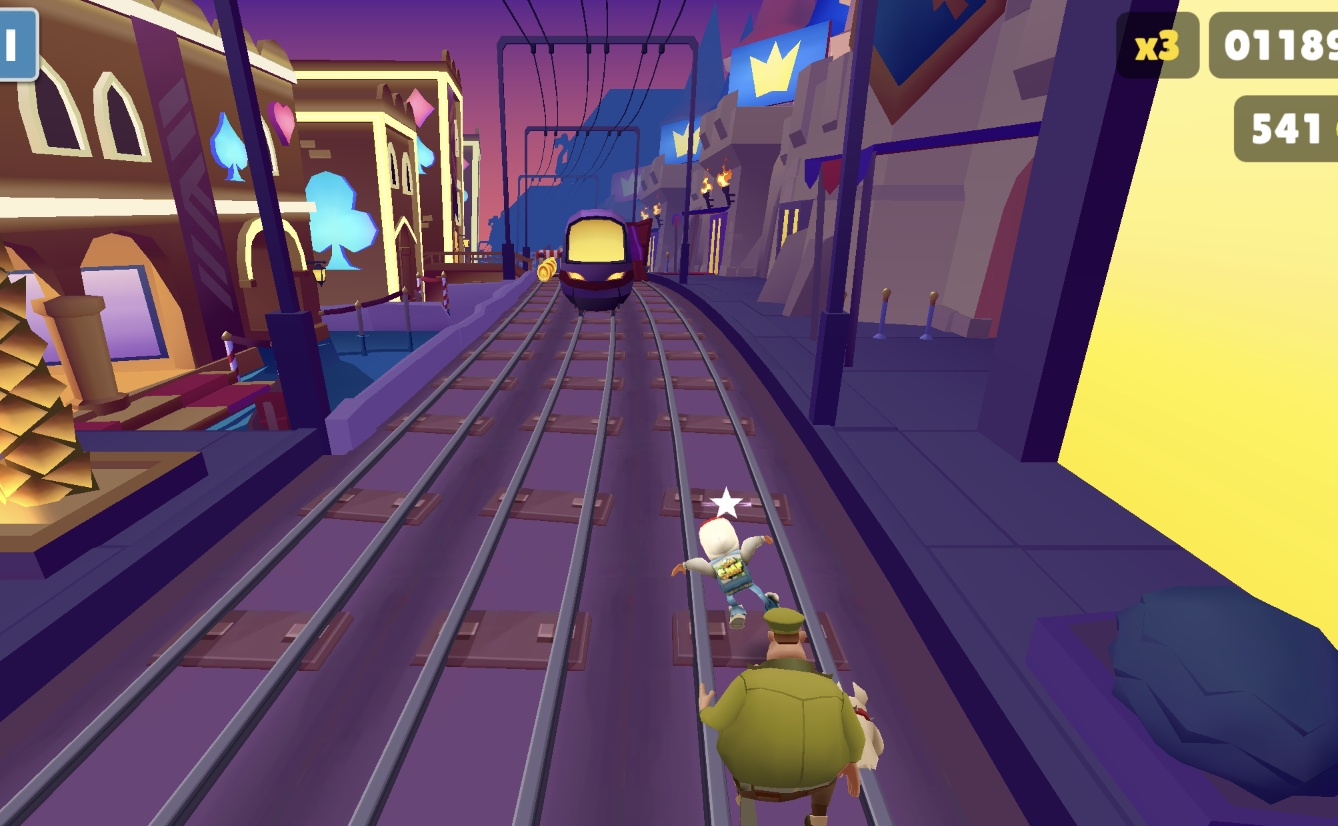train: (559, 212, 647, 312)
